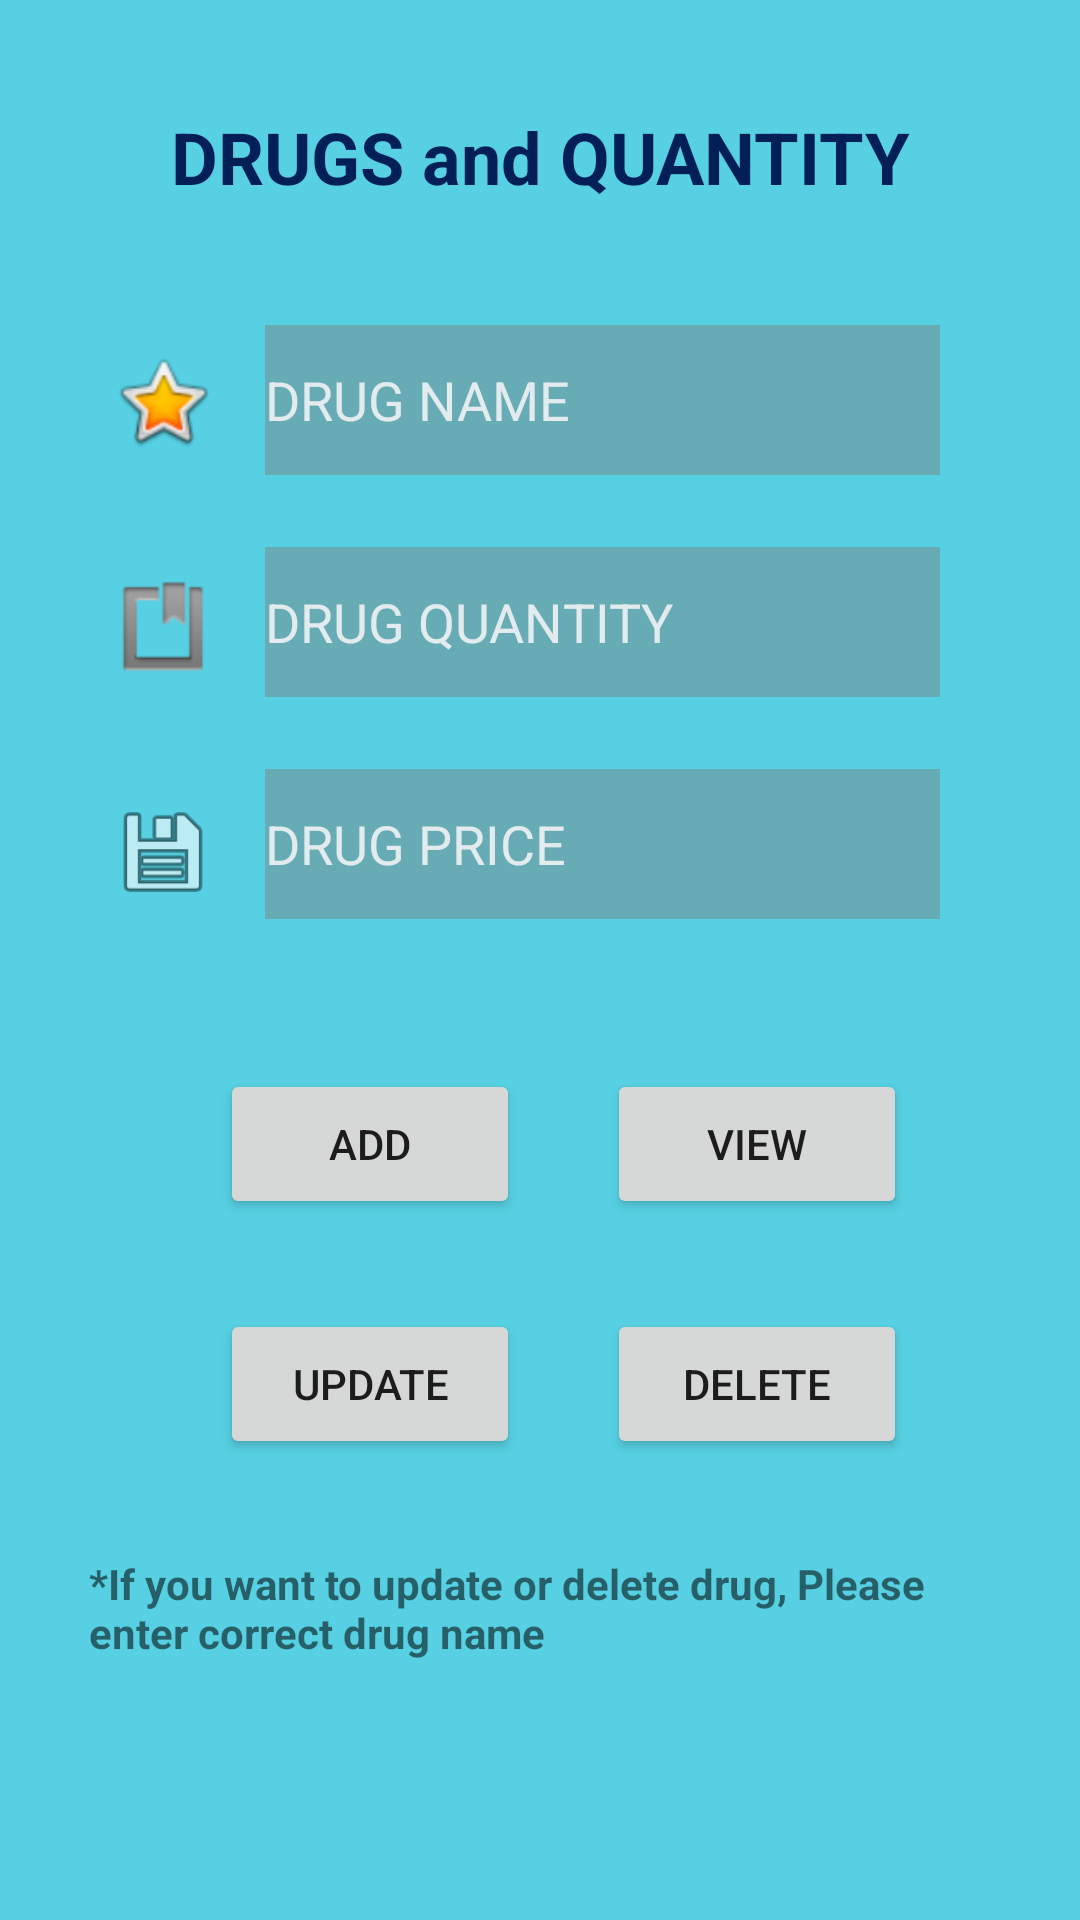

Icons on this 1080w x 1920h Android screen, each with its box as (left=x1, top=y1, right=x2, bottom=y2):
save: (left=123, top=812, right=203, bottom=892)
star on: (left=120, top=360, right=208, bottom=445)
